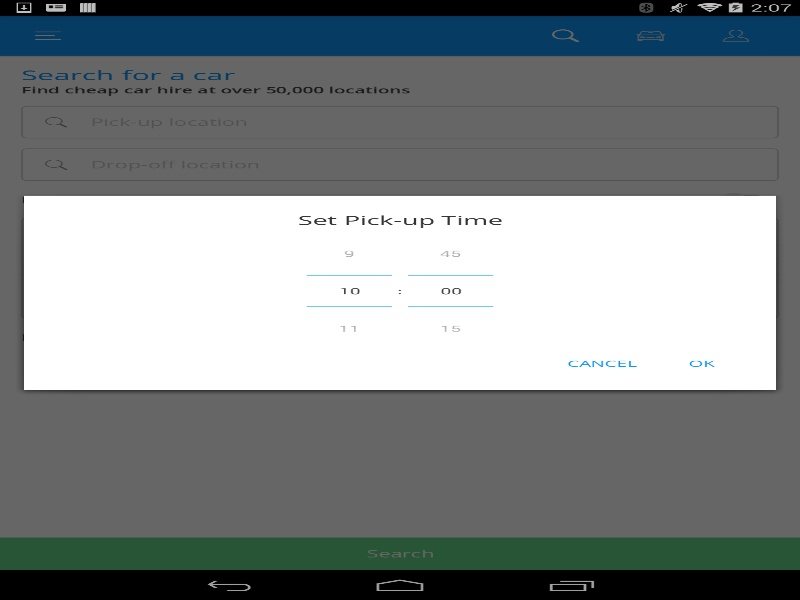Button: (306, 305, 392, 347), (408, 305, 493, 347), (306, 234, 392, 275), (408, 234, 493, 275)
Input: (306, 275, 392, 305), (408, 275, 493, 305)
